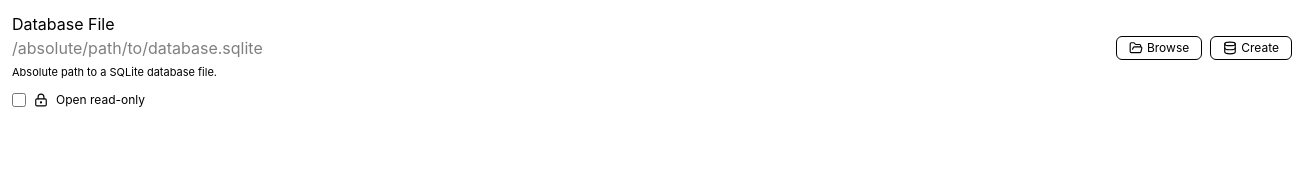
SqliteFormFields › renders an inline alert when database file creation fails
The width and height of the screenshot is (1304, 172).
Click the button with aria-label "Create SQLite database file": [1251, 48] box [1210,36,1292,60]
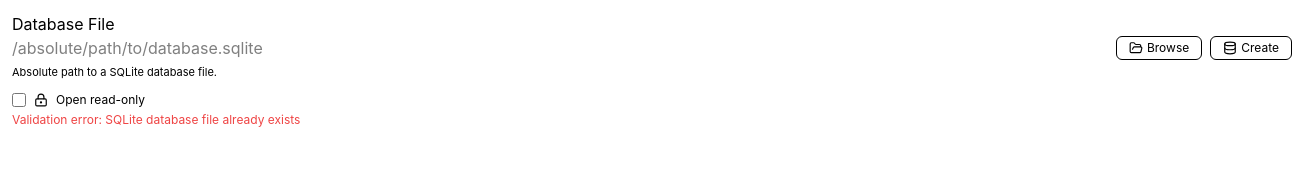
Check: the message shows "SQLite database file already exists", box [12,112,300,127]
